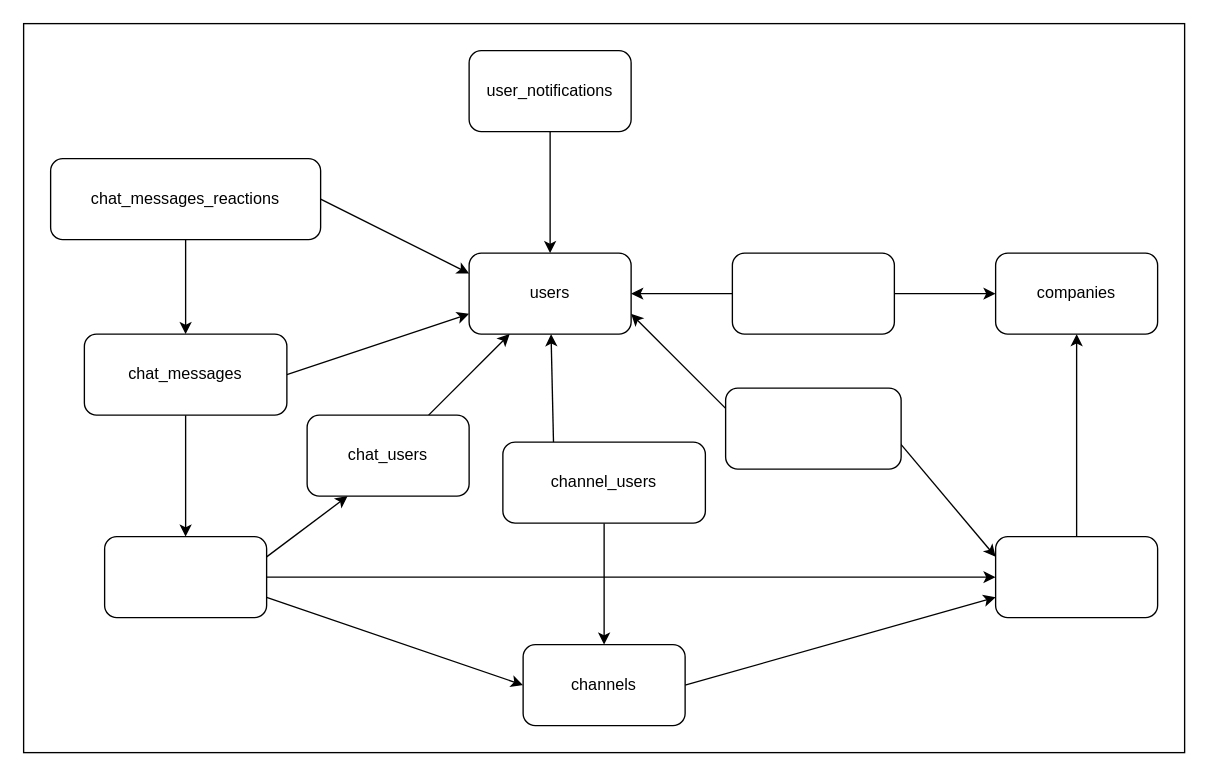
The diagram is 1208 pixels wide and 776 high, and some of its shapes have lost their labels. The shapes that lost their labels are listed below. From the top down, each one's centre as x and y in pixels, then its label:
the point at 812,293: company_users
the point at 812,428: workspace_users
the point at 185,576: chats
the point at 1076,576: workspaces
